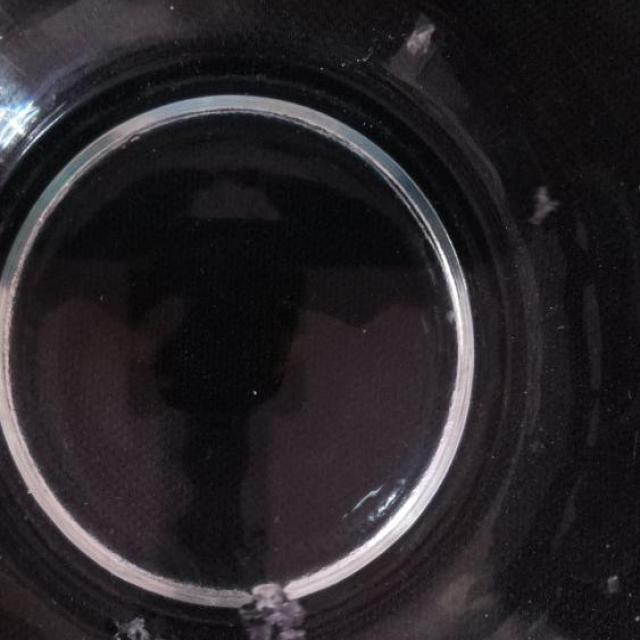fiber: (67, 604, 197, 639), (238, 583, 310, 639), (525, 175, 570, 229)
